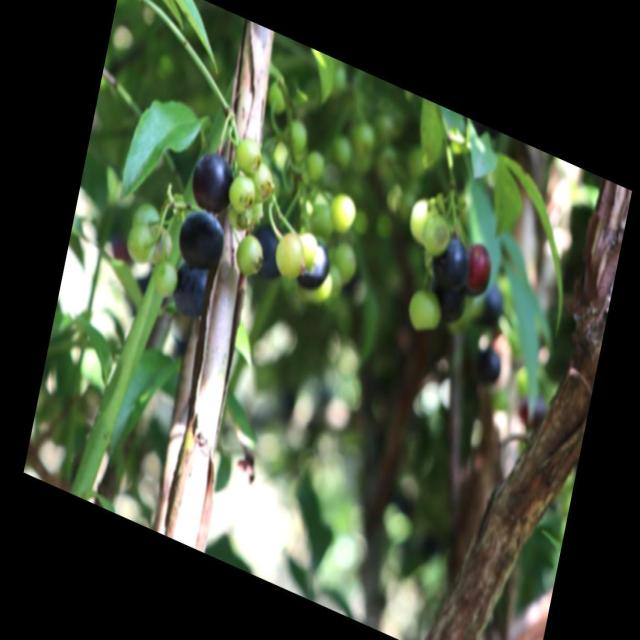blueberry: (186, 144, 240, 223), (175, 201, 229, 274), (165, 251, 215, 325), (246, 214, 294, 287), (293, 230, 335, 296), (424, 269, 469, 326), (432, 230, 474, 289), (470, 336, 507, 384)
blueberry-halfripe: (462, 241, 496, 296)
blueberry-unripe: (270, 222, 306, 284), (403, 282, 444, 336), (230, 130, 264, 178), (232, 229, 264, 277), (227, 170, 258, 217), (124, 215, 154, 262), (149, 256, 179, 298), (250, 162, 275, 205)
